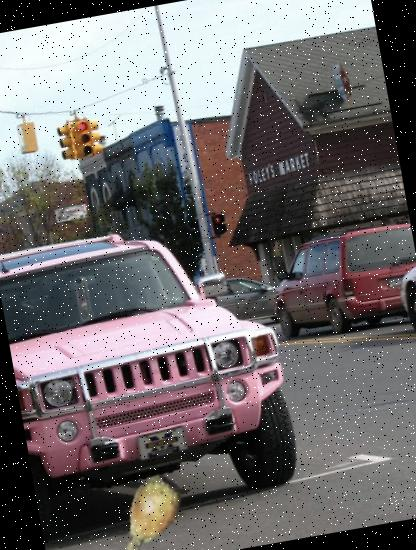Cactus: (100, 465, 201, 550)
